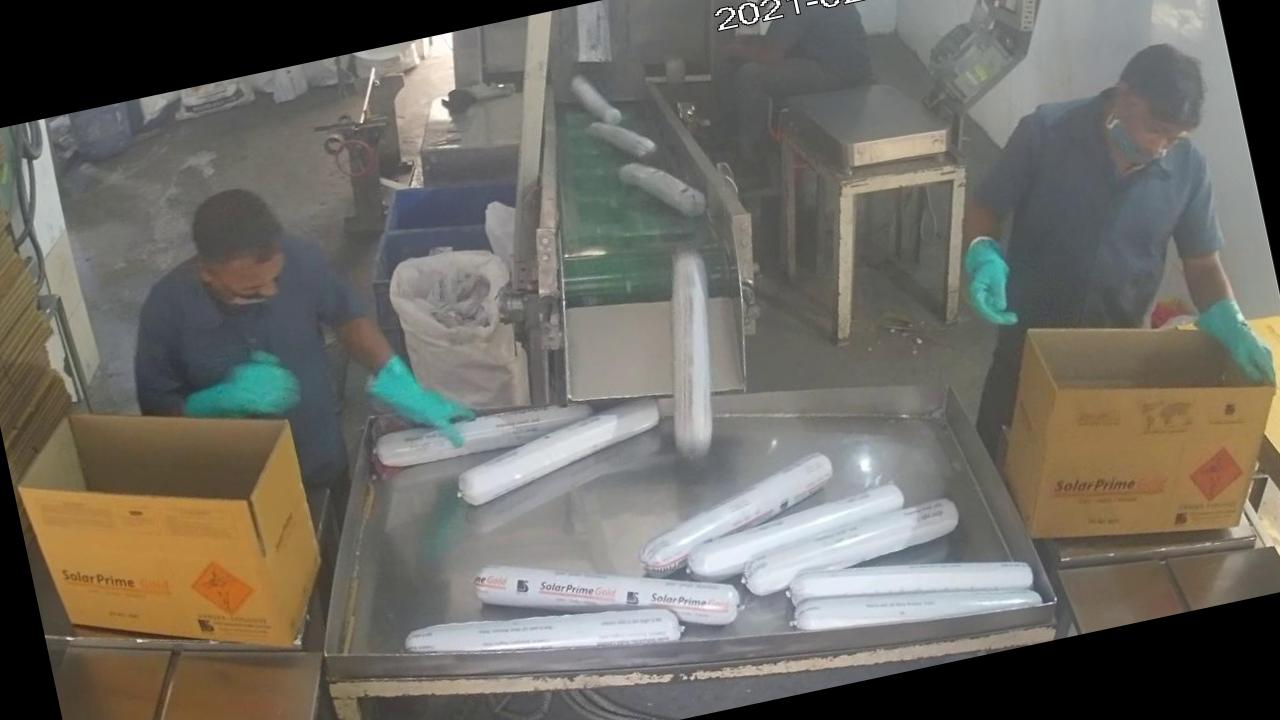Gloves: (332, 314, 523, 482), (158, 330, 335, 459), (939, 196, 1044, 350), (1178, 260, 1280, 401)
No-gloves: (706, 13, 816, 85)
